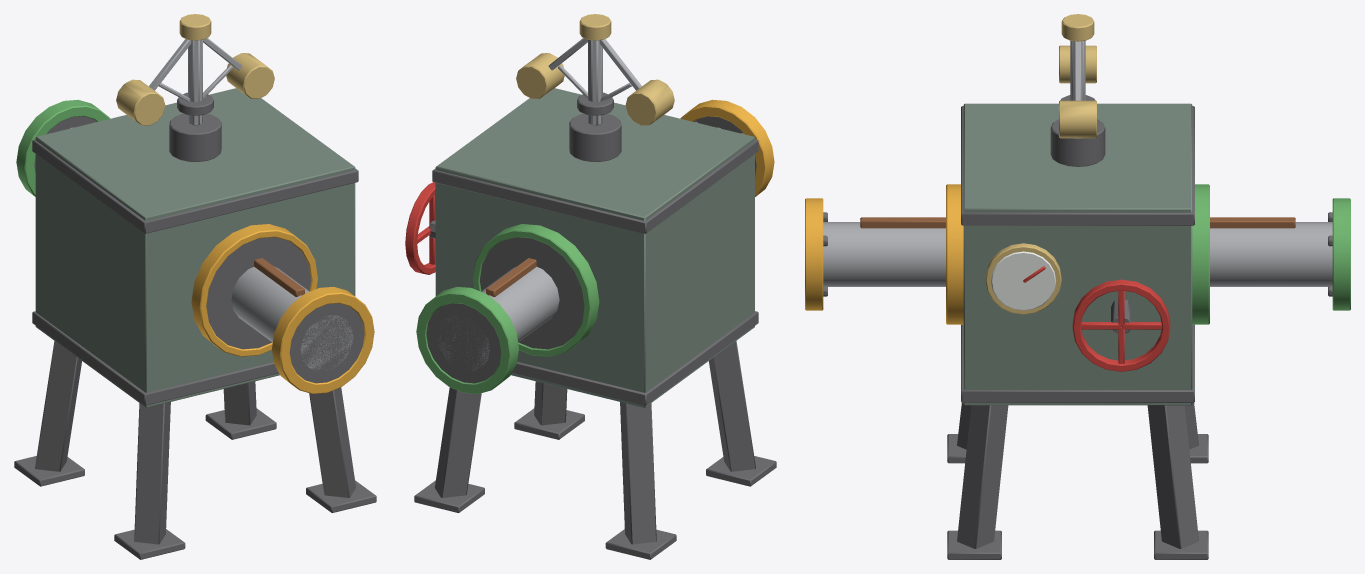
The model's file is feTorqueRegulator.fbx.
3 renders of one model, left to right at view 1: azimuth 30°, elevation 25°; view 2: azimuth 150°, elevation 25°; view 3: azimuth 270°, elevation 25°, orthographic. The views are drawn at different scales.
Parts seen in each view (by area): view 1: feTorqueRegulator_Base, FeSpinOut_Regulator, FeSpin_x0.5_Governor, FeSpinIn_Regulator; view 2: feTorqueRegulator_Base, FeSpinIn_Regulator, FeSpin_x0.5_Governor, FeSpinOut_Regulator; view 3: feTorqueRegulator_Base, FeSpinIn_Regulator, FeSpinOut_Regulator, FeSpin_x0.5_Governor.
Boxes of the visible parts, x1,y1,x2,y2 form: feTorqueRegulator_Base: (14, 88, 376, 559); FeSpinOut_Regulator: (231, 258, 374, 393); FeSpin_x0.5_Governor: (116, 14, 274, 125); FeSpinIn_Regulator: (16, 99, 110, 196); feTorqueRegulator_Base: (405, 88, 776, 559); FeSpinIn_Regulator: (416, 258, 559, 393); FeSpin_x0.5_Governor: (516, 14, 674, 125); FeSpinOut_Regulator: (680, 99, 774, 196); feTorqueRegulator_Base: (946, 103, 1209, 559); FeSpinIn_Regulator: (1210, 198, 1350, 310); FeSpinOut_Regulator: (805, 198, 945, 310); FeSpin_x0.5_Governor: (1059, 14, 1096, 138).
Bounding box in the file's own units: 0.58 × 0.9782 × 1.
